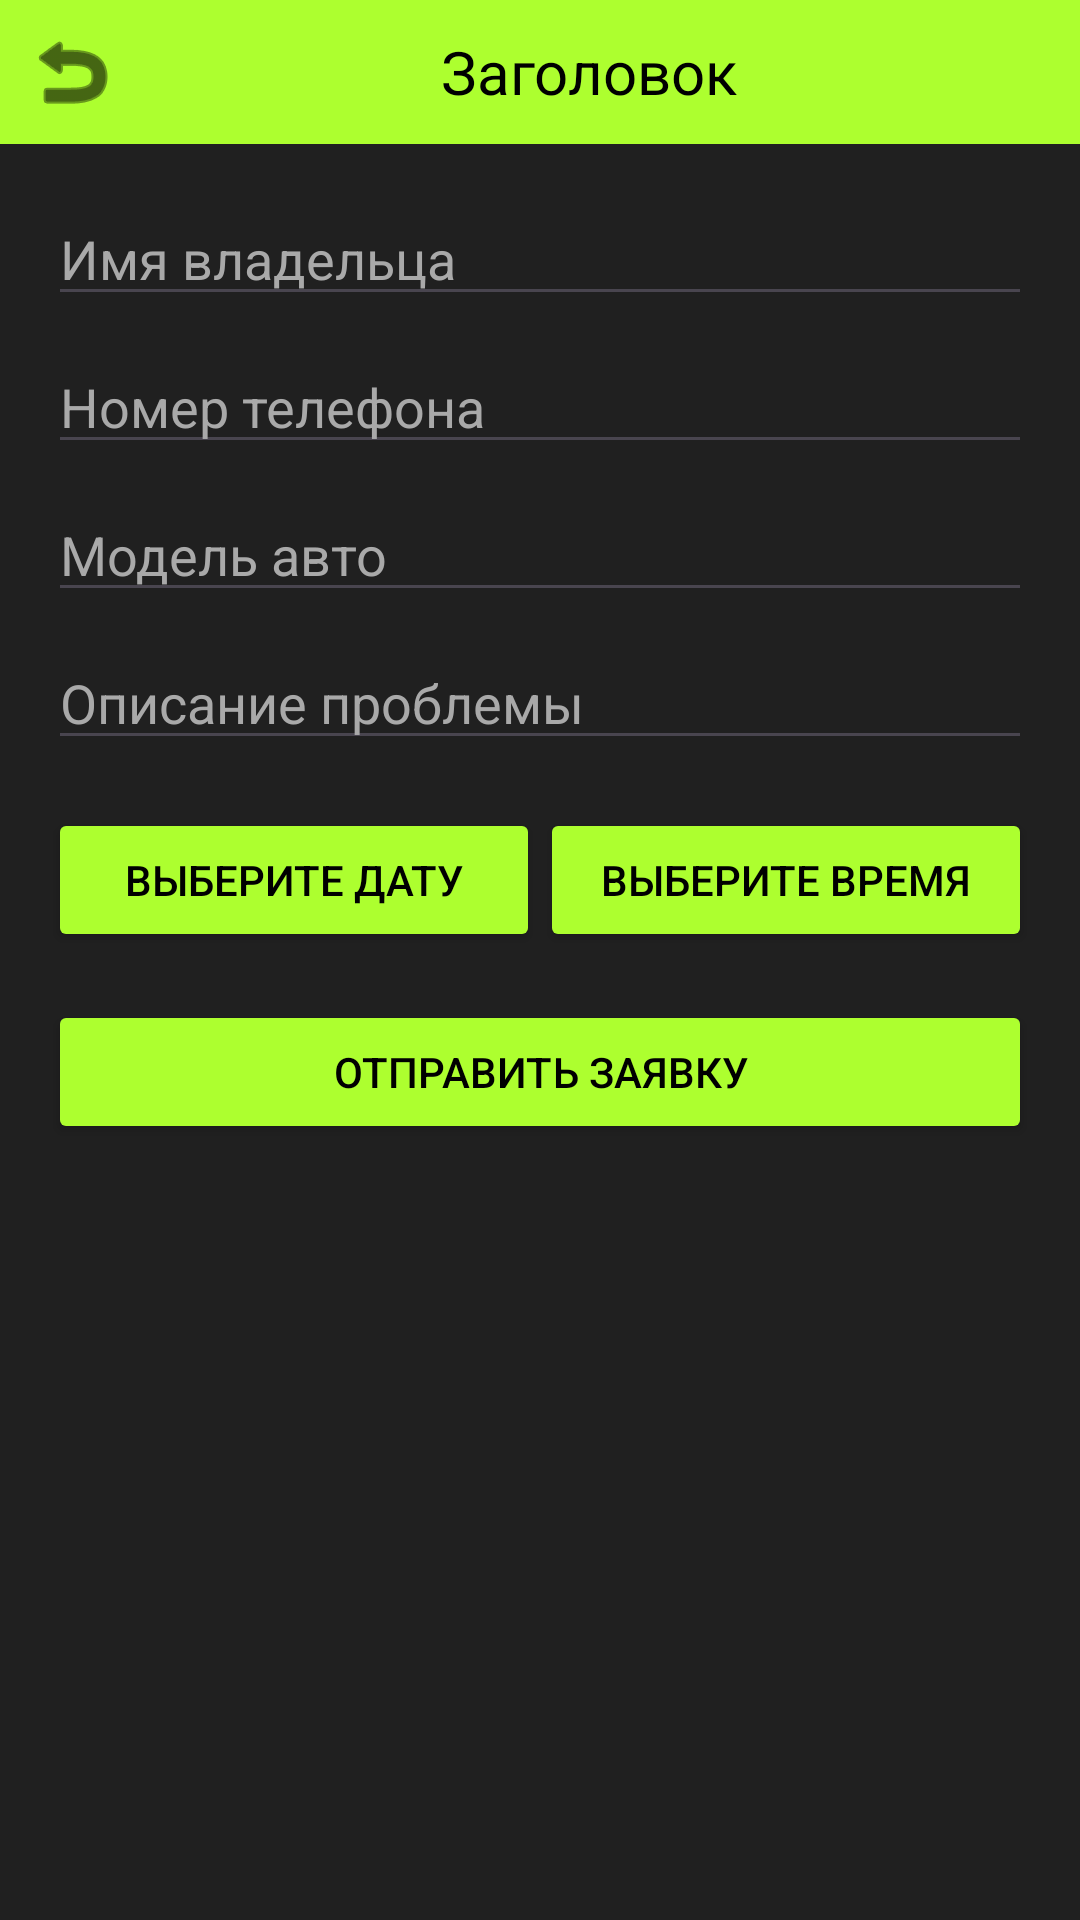

Named icons in this screenshot (1080×1920) and their centers, (x=x, y=y):
Назад: (x=73, y=72)
